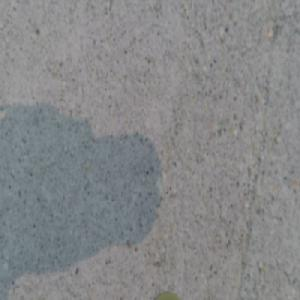Washer: (156, 290, 179, 299)
